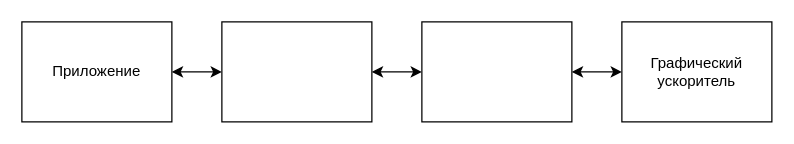
This 794x144 diagram has some shape labels left out. Here are the shapes that lost their labels. From the top down, the box of each, then its label:
(221, 21, 372, 122): 3D API
(421, 21, 572, 122): Драйвер
